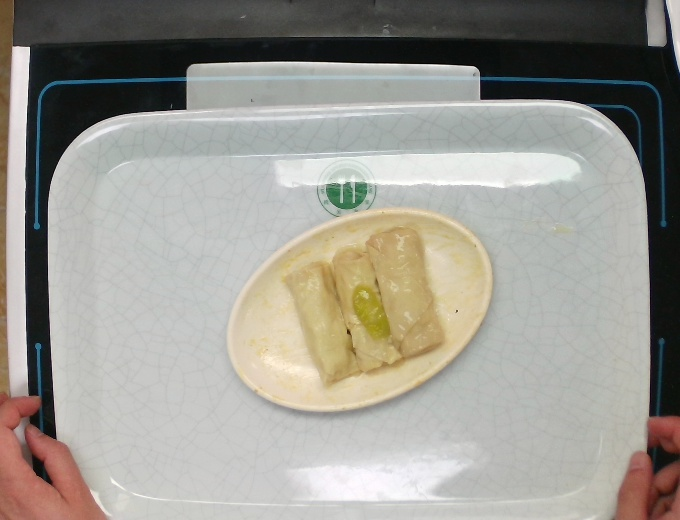JYsf-Tuo_Yuan_Wan: (216, 200, 495, 416)
